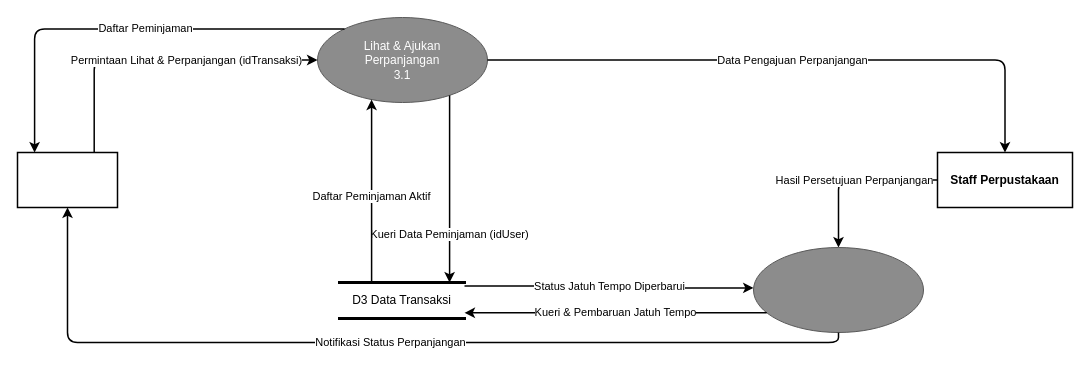
This 1091x369 diagram has some shape labels left out. The box of each missing label's shape, as (x1, y1, x2, y2) in pixels:
Pengguna: (16, 151, 118, 208)
Tinjau & Atur Jatuh Tempo 3.2: (752, 246, 924, 332)
